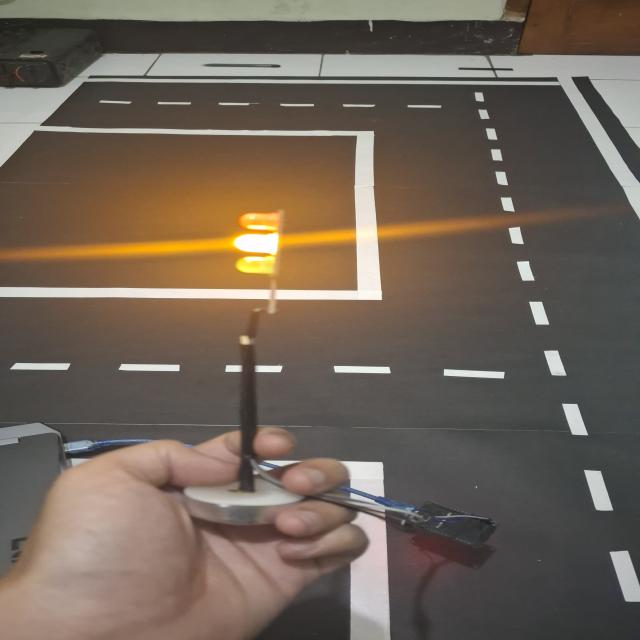Lampu Kuning: (230, 210, 284, 276)
